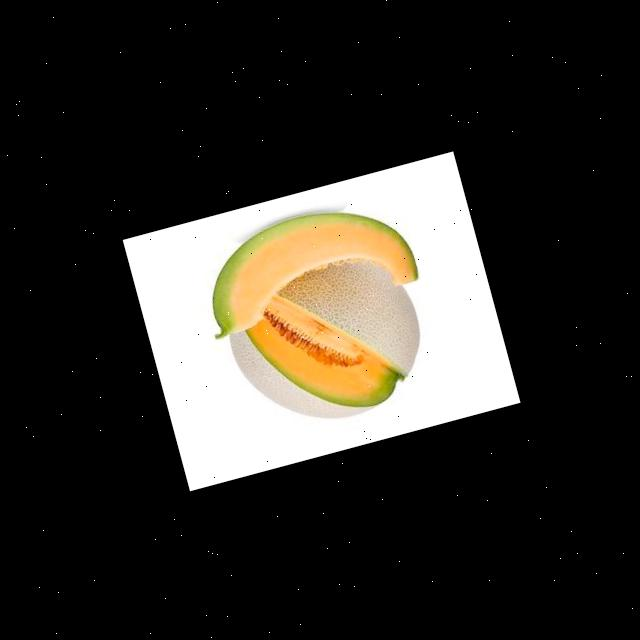Hami Melon: (224, 276, 435, 442), (192, 188, 420, 336)
